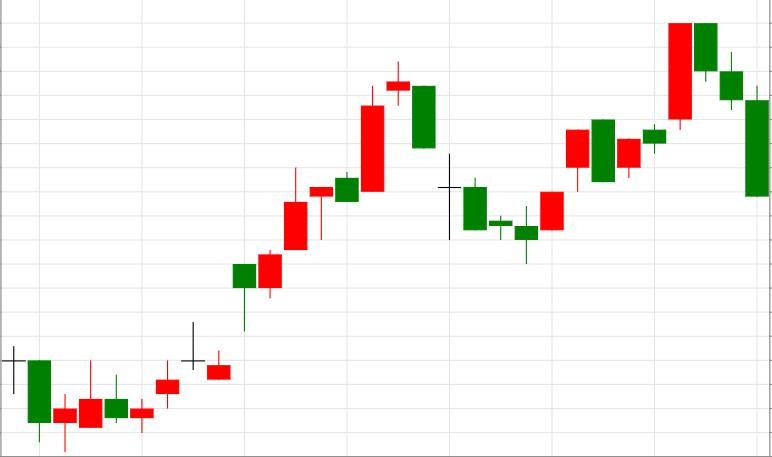evening_star_fall: (206, 63, 435, 380)
three_black_crows_fall: (541, 24, 769, 232)
